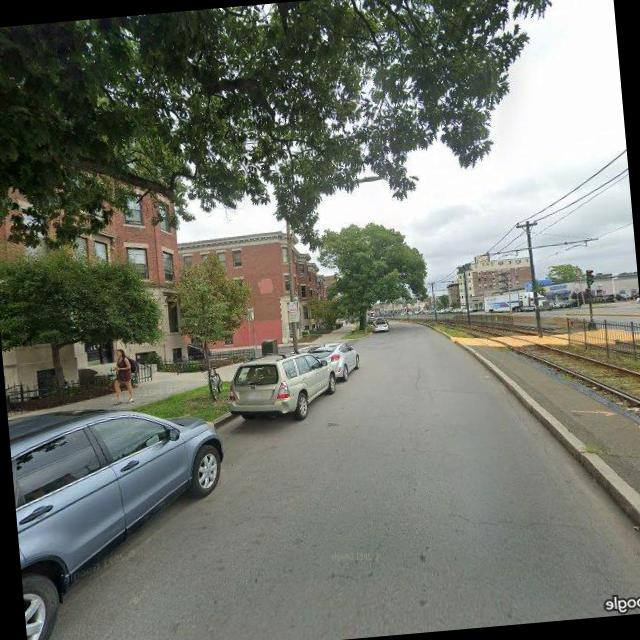crack: (446, 498, 580, 538)
